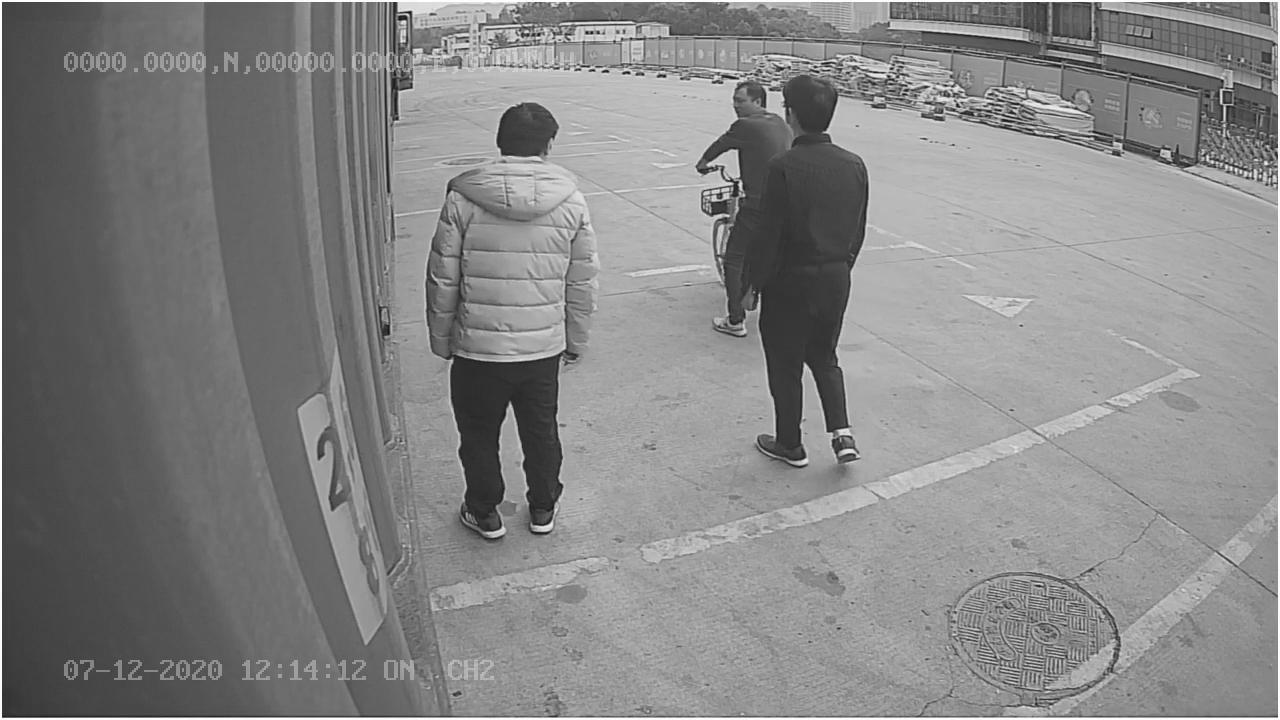person: (422, 101, 604, 538)
